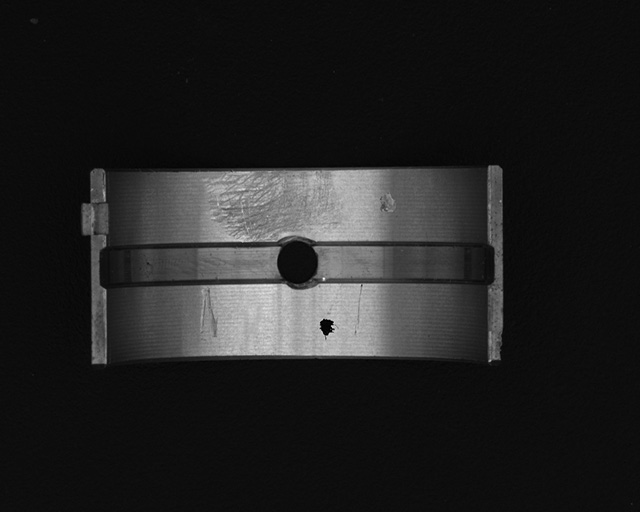blot: (318, 318, 336, 341)
bruise: (380, 192, 395, 212)
gap: (98, 243, 280, 287), (313, 242, 494, 286)
hole: (276, 237, 320, 292)
nick: (197, 288, 220, 339), (354, 284, 363, 334)
scratch: (203, 170, 346, 239)
